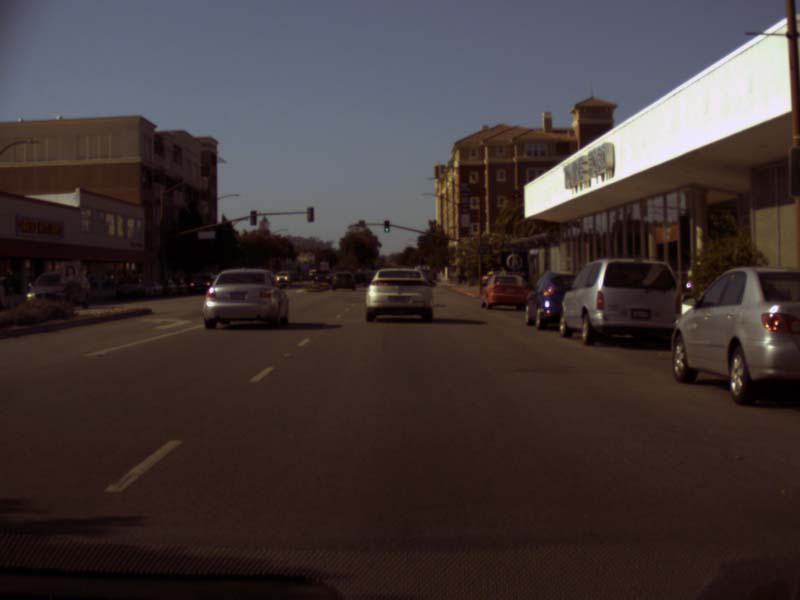Green: (384, 220, 389, 232)
